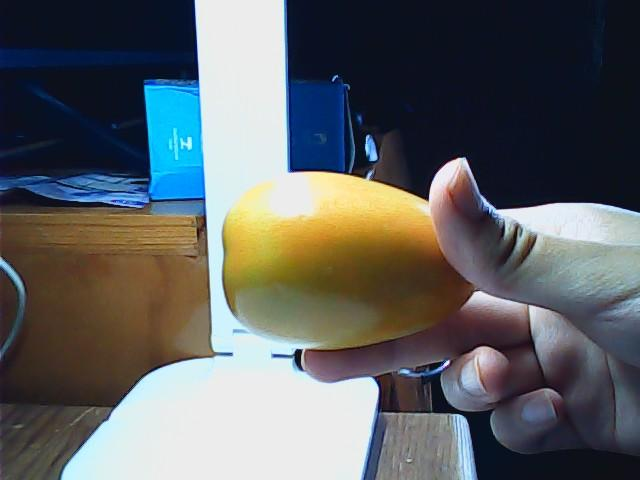verde: (221, 171, 478, 351)
